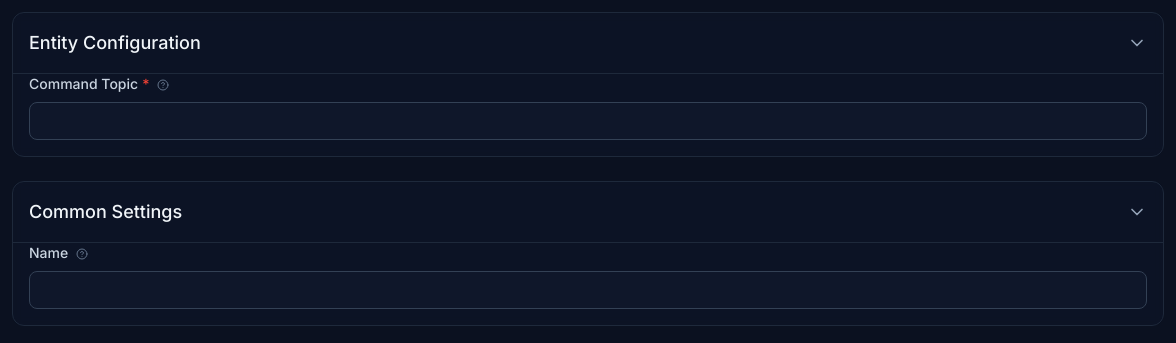
Scenario: DynamicForm › section expand/collapse › collapses section when header is clicked
Click the button "Entity Configuration".
click(115, 42)  # box [13,13,1163,73]
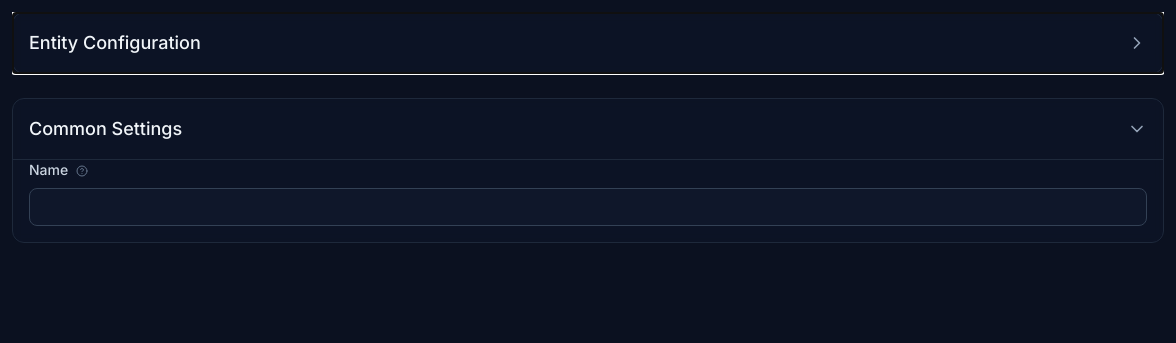
Result: the label labelled "Command Topic" is gone
